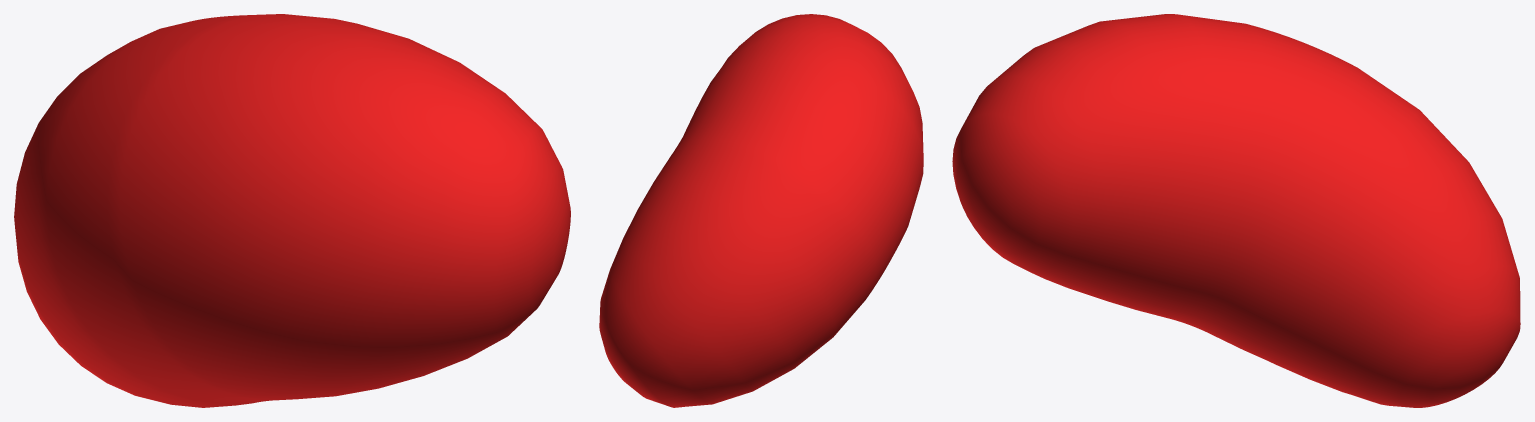
The model's file is Red Jellybean.fbx.
3 views of the same model, side by side, from view 1: azimuth 30°, elevation 25°; view 2: azimuth 150°, elevation 25°; view 3: azimuth 270°, elevation 25° (orthographic). The views are drawn at different scales.
Parts seen in each view (by area): view 1: Jellybean_1; view 2: Jellybean_1; view 3: Jellybean_1.
Boxes of the visible parts, <box> form: Jellybean_1: <box>14,14,570,407</box>; Jellybean_1: <box>599,14,923,407</box>; Jellybean_1: <box>952,14,1520,407</box>.
Bounding box in the file's own units: 0.0444 × 0.0538 × 0.0769.
